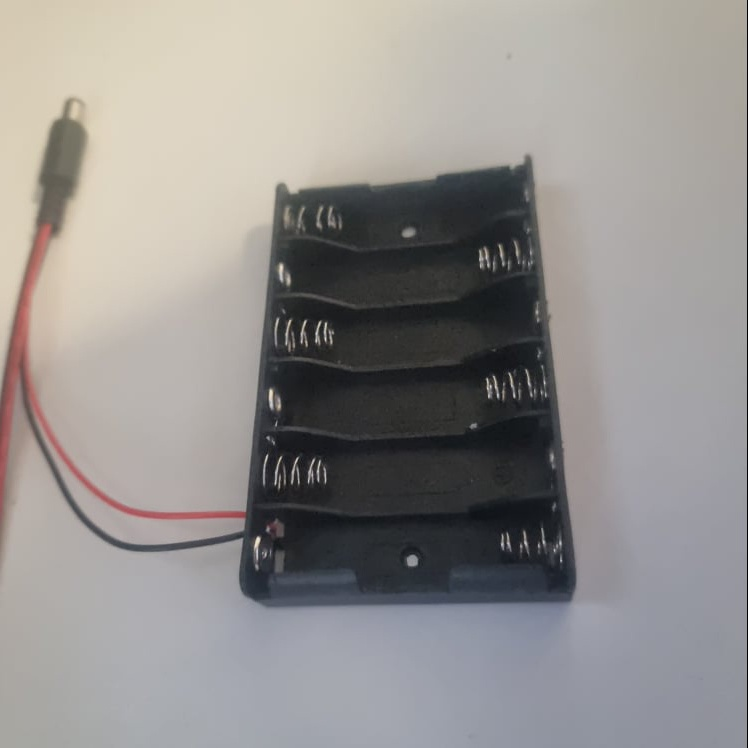BATTERY BOX: (239, 154, 580, 606)
